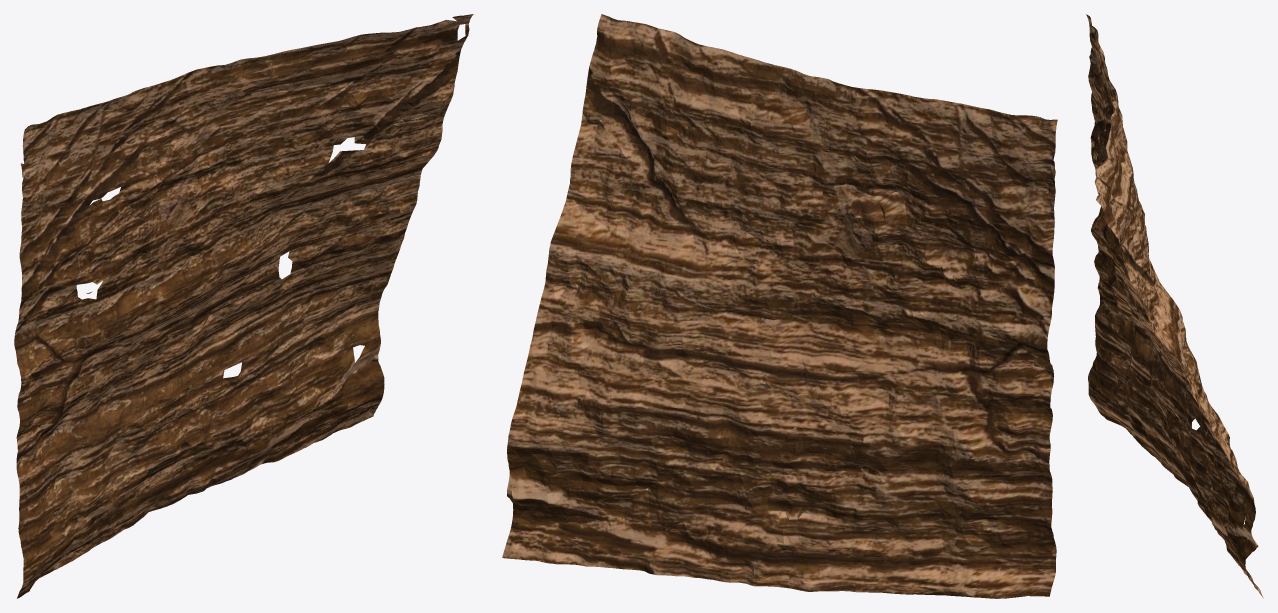
The picture shows the model from 3 angles, left to right: view 1: azimuth 30°, elevation 25°; view 2: azimuth 150°, elevation 25°; view 3: azimuth 270°, elevation 25°; orthographic projection. The views are drawn at different scales.
Size of the model in its own units: 1.04 by 1.04 by 0.4222.
3 materials, 3 textured.
